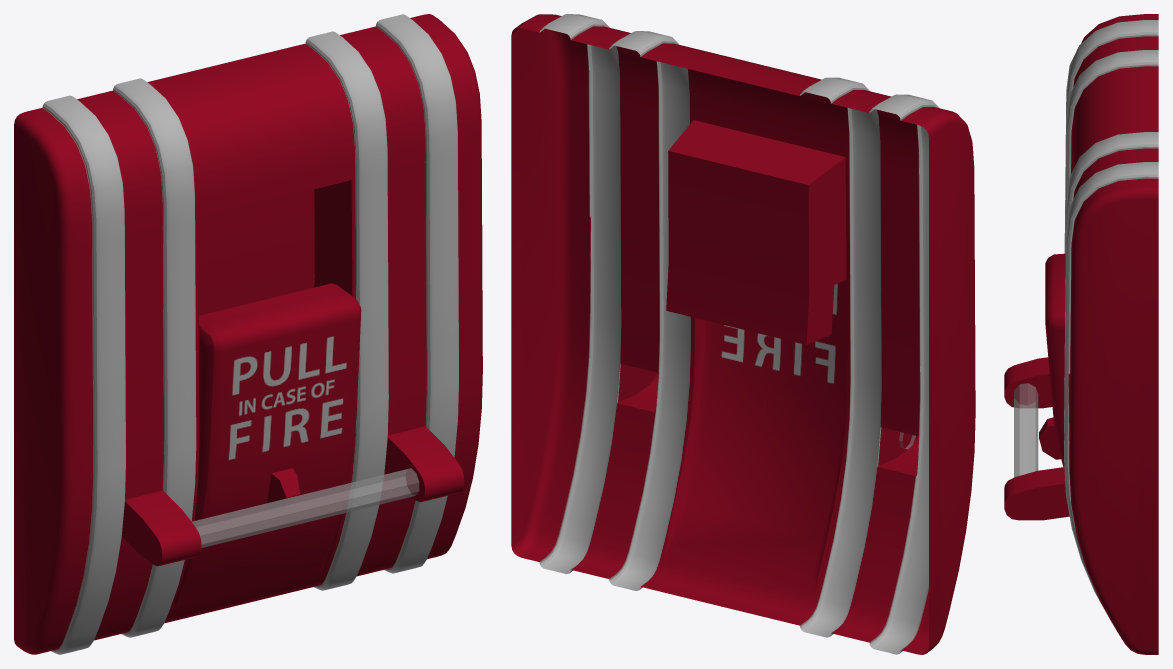
Rendered from fire_alarm.glb.
3 renders of one model, left to right at view 1: azimuth 30°, elevation 25°; view 2: azimuth 150°, elevation 25°; view 3: azimuth 270°, elevation 25°, orthographic. The views are drawn at different scales.
Visible parts, largest first — view 1: Box001; view 2: Box001; view 3: Box001.
Part boxes in pixels (x1,y1,x2,y2): Box001: (14,14,482,654); Box001: (511,14,975,654); Box001: (1004,14,1158,654).
Bounding box in the file's own units: 92.13 × 114 × 33.45.
2 materials, 1 textured.
